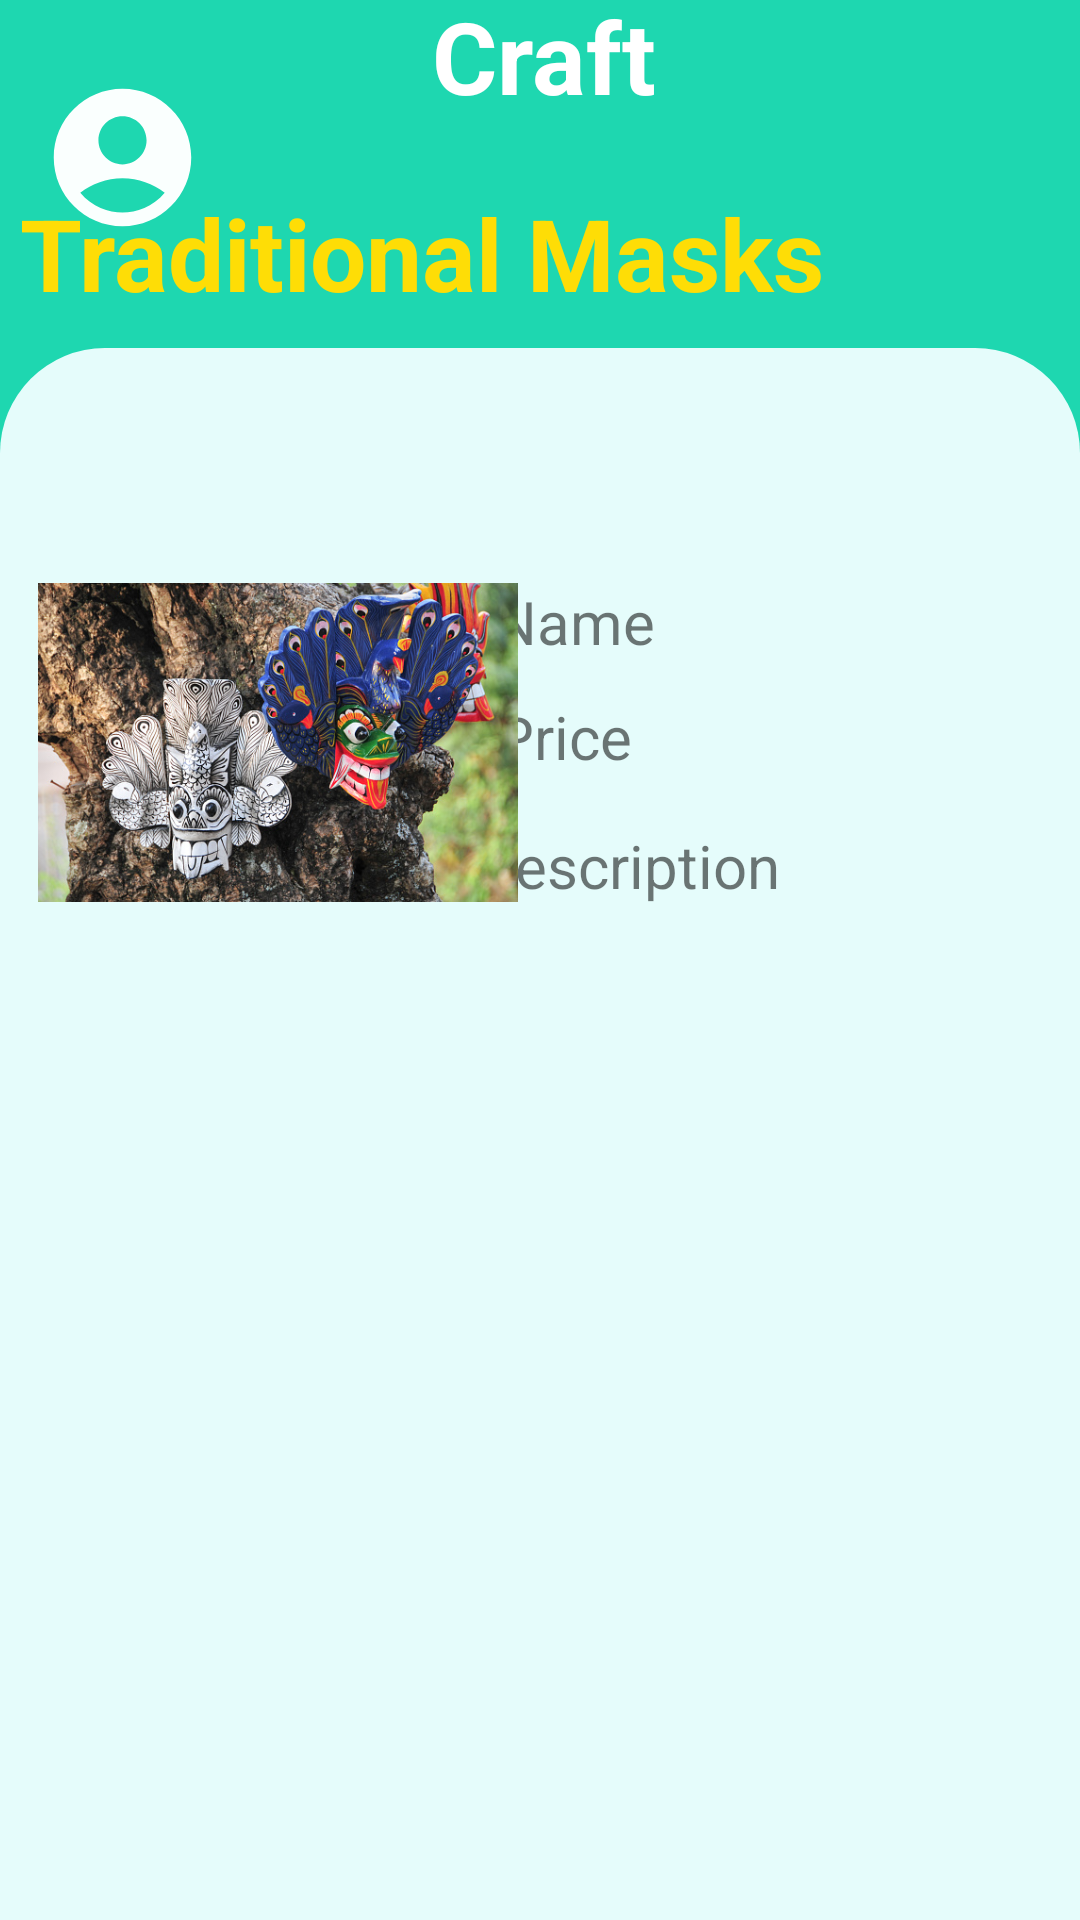

Named icons in this screenshot (1080px×1920px) and their bounding boxes, box(x1, y1, x2, y2):
user profile: box(53, 88, 192, 227)
